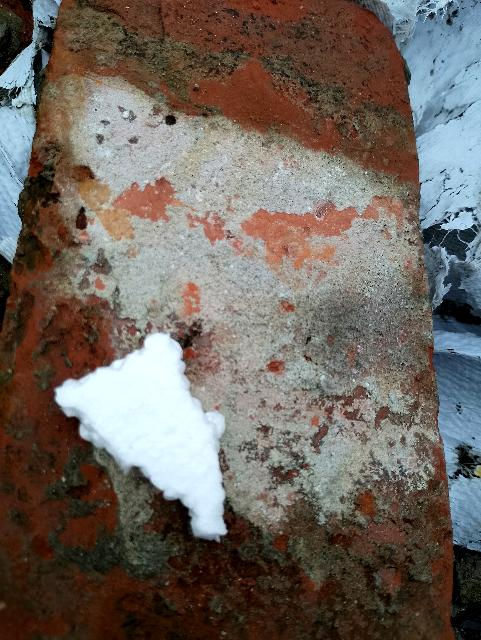cocksheet: (57, 302, 292, 538)
